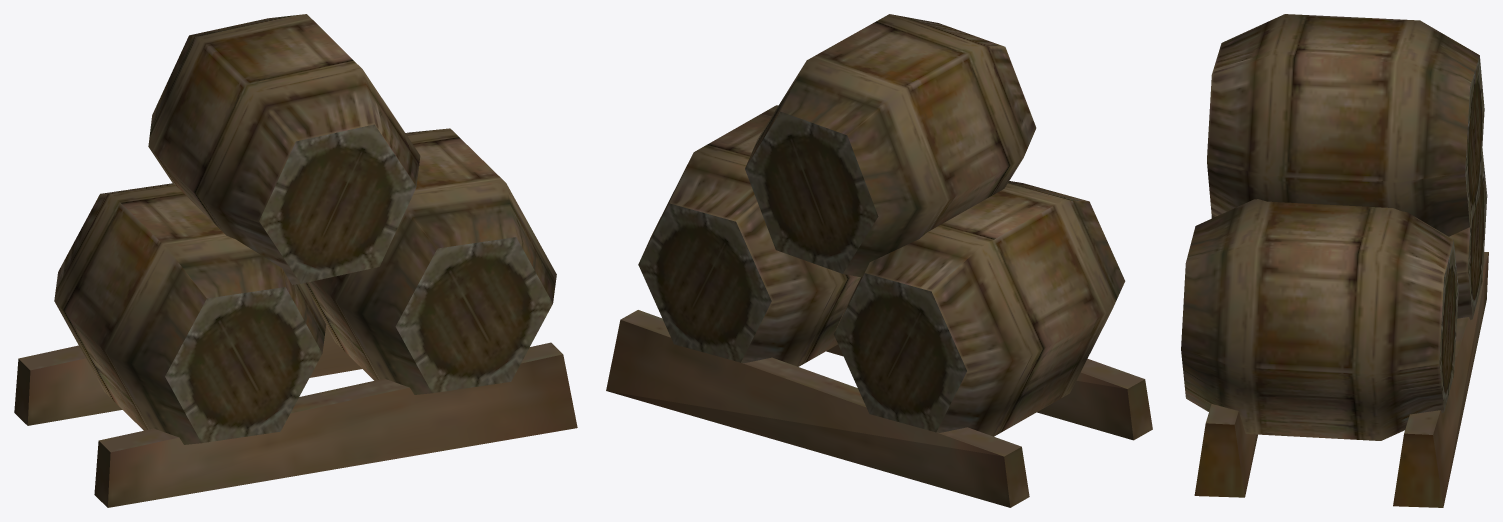
3 views of the same model, side by side, from view 1: azimuth 30°, elevation 25°; view 2: azimuth 150°, elevation 25°; view 3: azimuth 270°, elevation 25° (orthographic). The views are drawn at different scales.
Parts seen in each view (by area): view 1: pasted__Combined_Mesh_root_scene__Mesh_polySurface4504; view 2: pasted__Combined_Mesh_root_scene__Mesh_polySurface4504; view 3: pasted__Combined_Mesh_root_scene__Mesh_polySurface4504.
Boxes of the visible parts, left/top/right/bottom form: pasted__Combined_Mesh_root_scene__Mesh_polySurface4504: left=14, top=14, right=577, bottom=507; pasted__Combined_Mesh_root_scene__Mesh_polySurface4504: left=606, top=14, right=1152, bottom=507; pasted__Combined_Mesh_root_scene__Mesh_polySurface4504: left=1181, top=14, right=1488, bottom=507.
Size of the model in its own units: 5.91 by 4.52 by 3.54.
